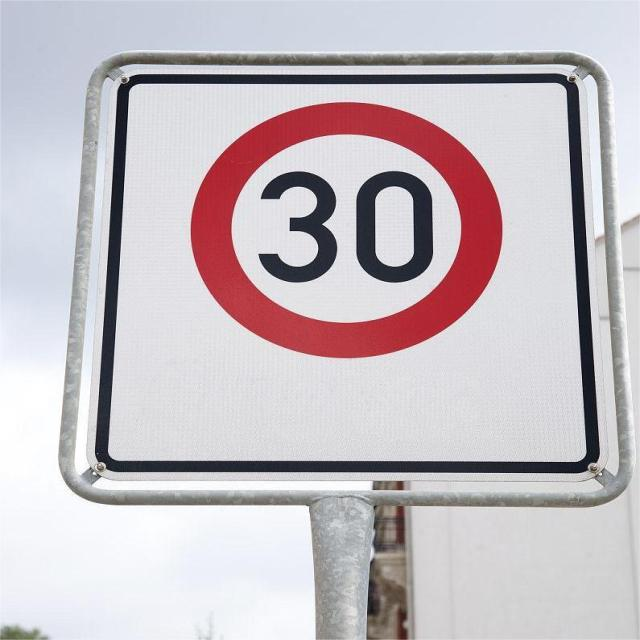speed limit 30: (189, 100, 504, 359)
